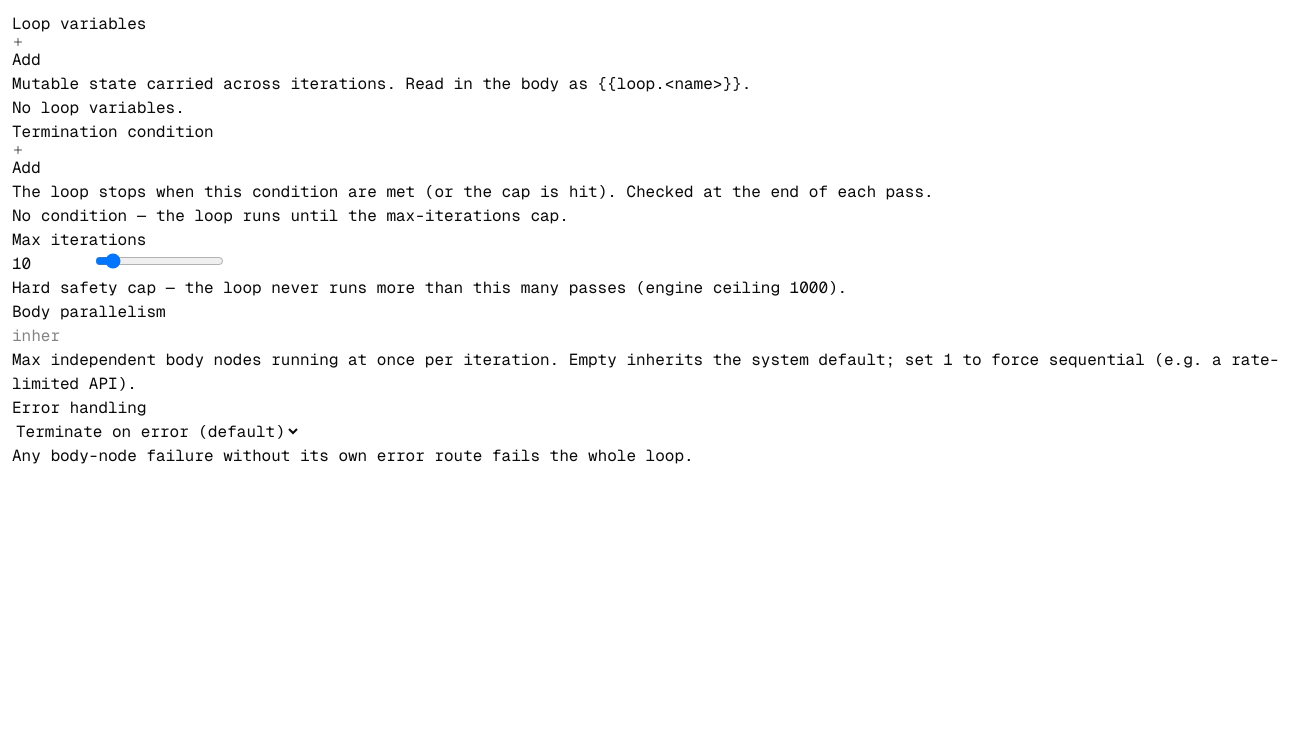
LoopEditor › adds a termination condition; a unary operator hides the value box
Click the button "Add" below "Termination condition" at (26, 162), box [12,144,41,180]
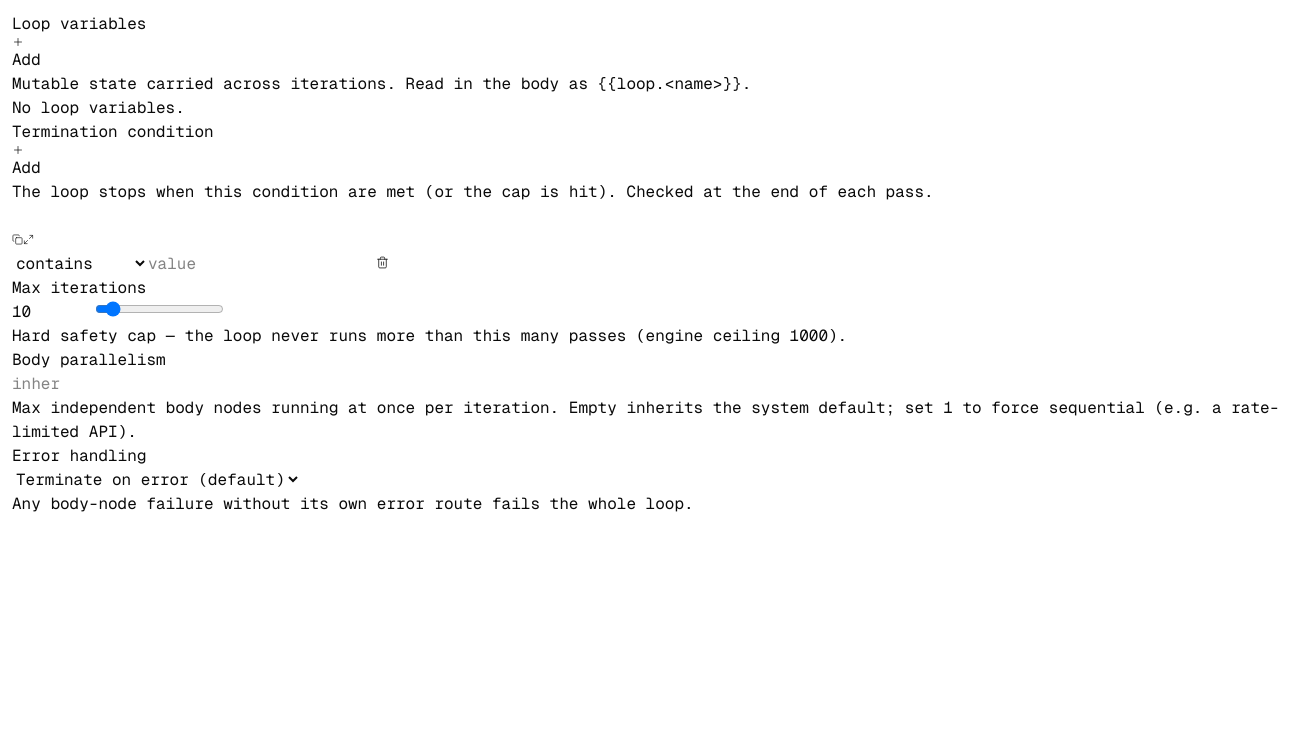
Now the field with placeholder "value" is shown, box [148,252,376,276]
Select "is empty" in the dropdown below "The loop stops when" at (80, 264), box [12,252,148,275]
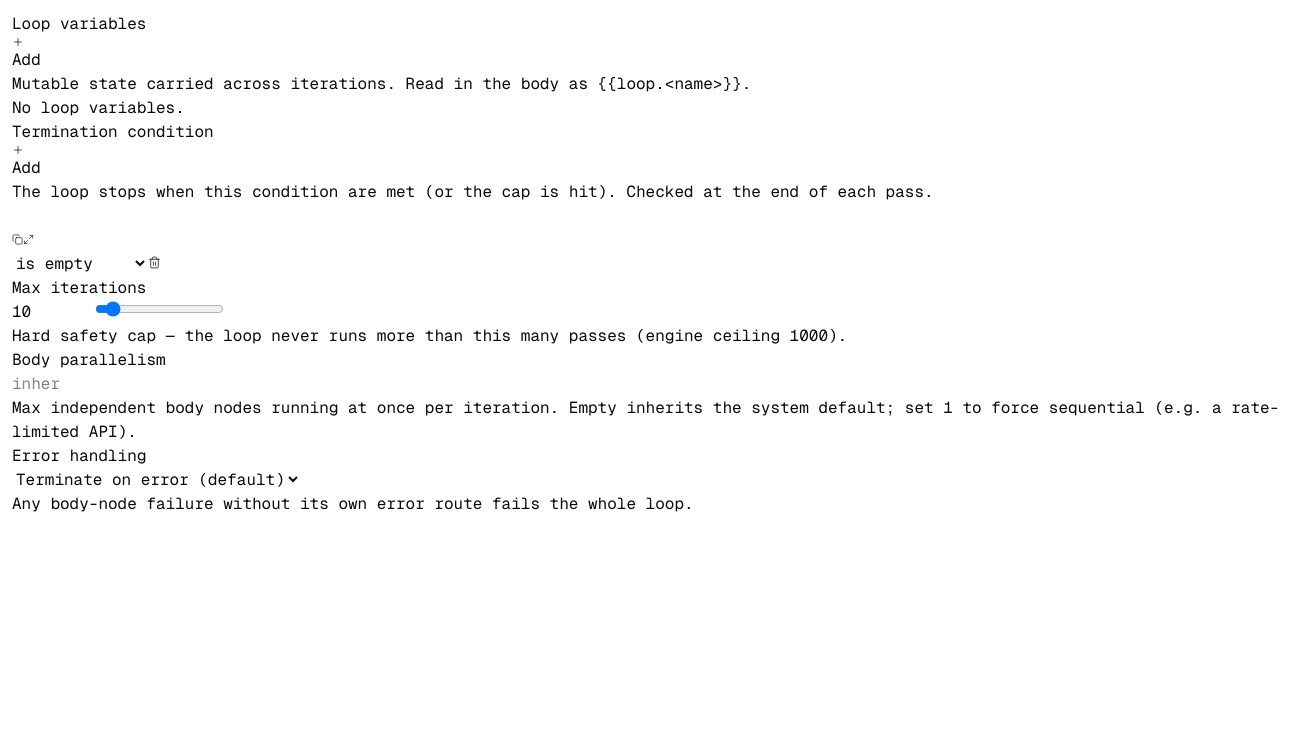
Now the field with placeholder "value" is gone
